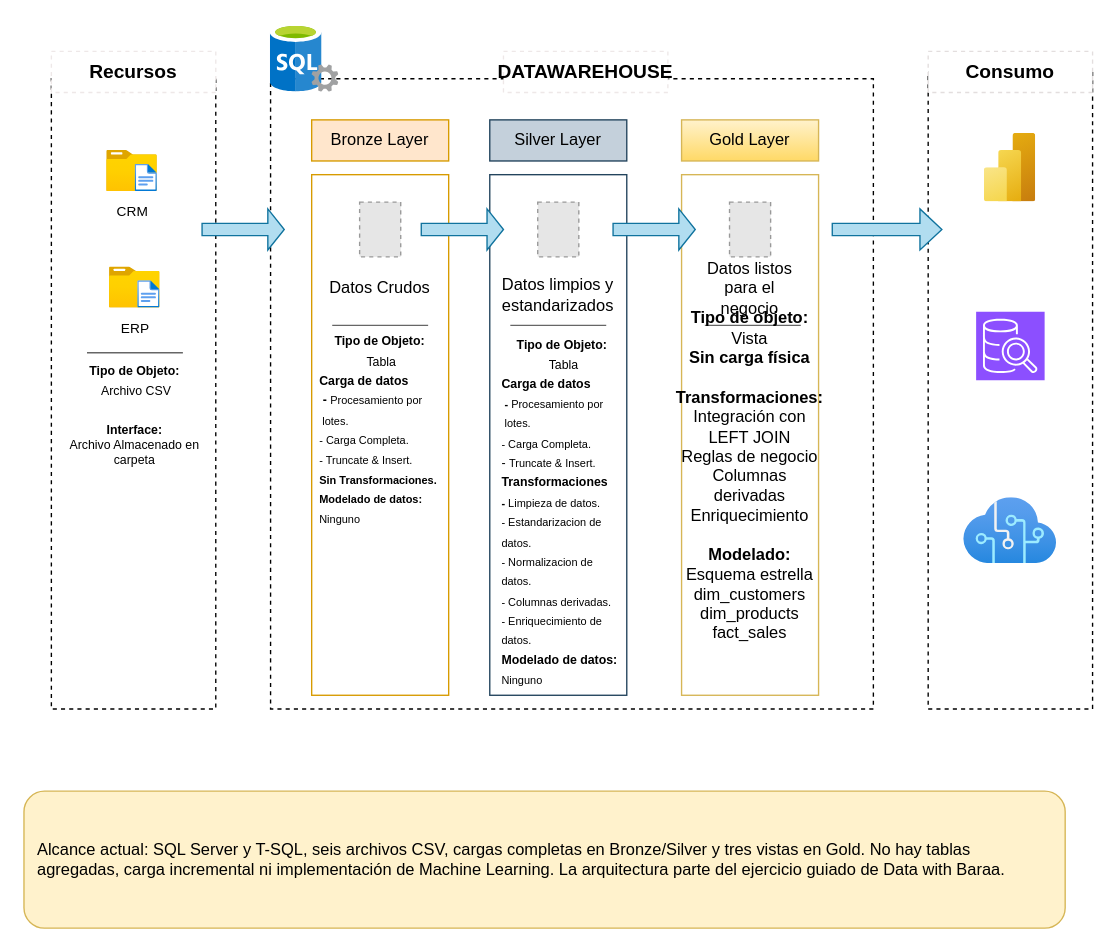
Image size: 1117x952. Some labels were removed from this diagram. Grey dashed boxes stand in for pictures. Here are the shapes that lost their labels. From the top down, the centre of each, then its label:
the point at 1009,167: Consumo previsto: BI y reporting
the point at 1010,345: Consumo disponible: Consultas SQL ad hoc
the point at 1009,530: Consumo potencial: Machine Learning (no implementado)
